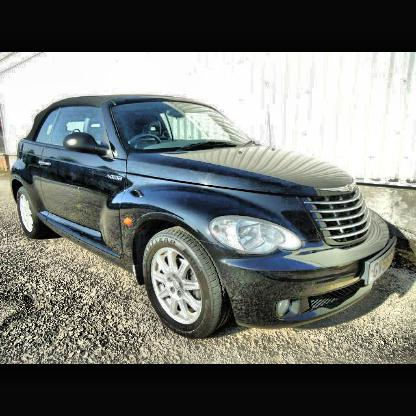Chrysler PT Cruiser Convertible 2008: (10, 96, 398, 340)
